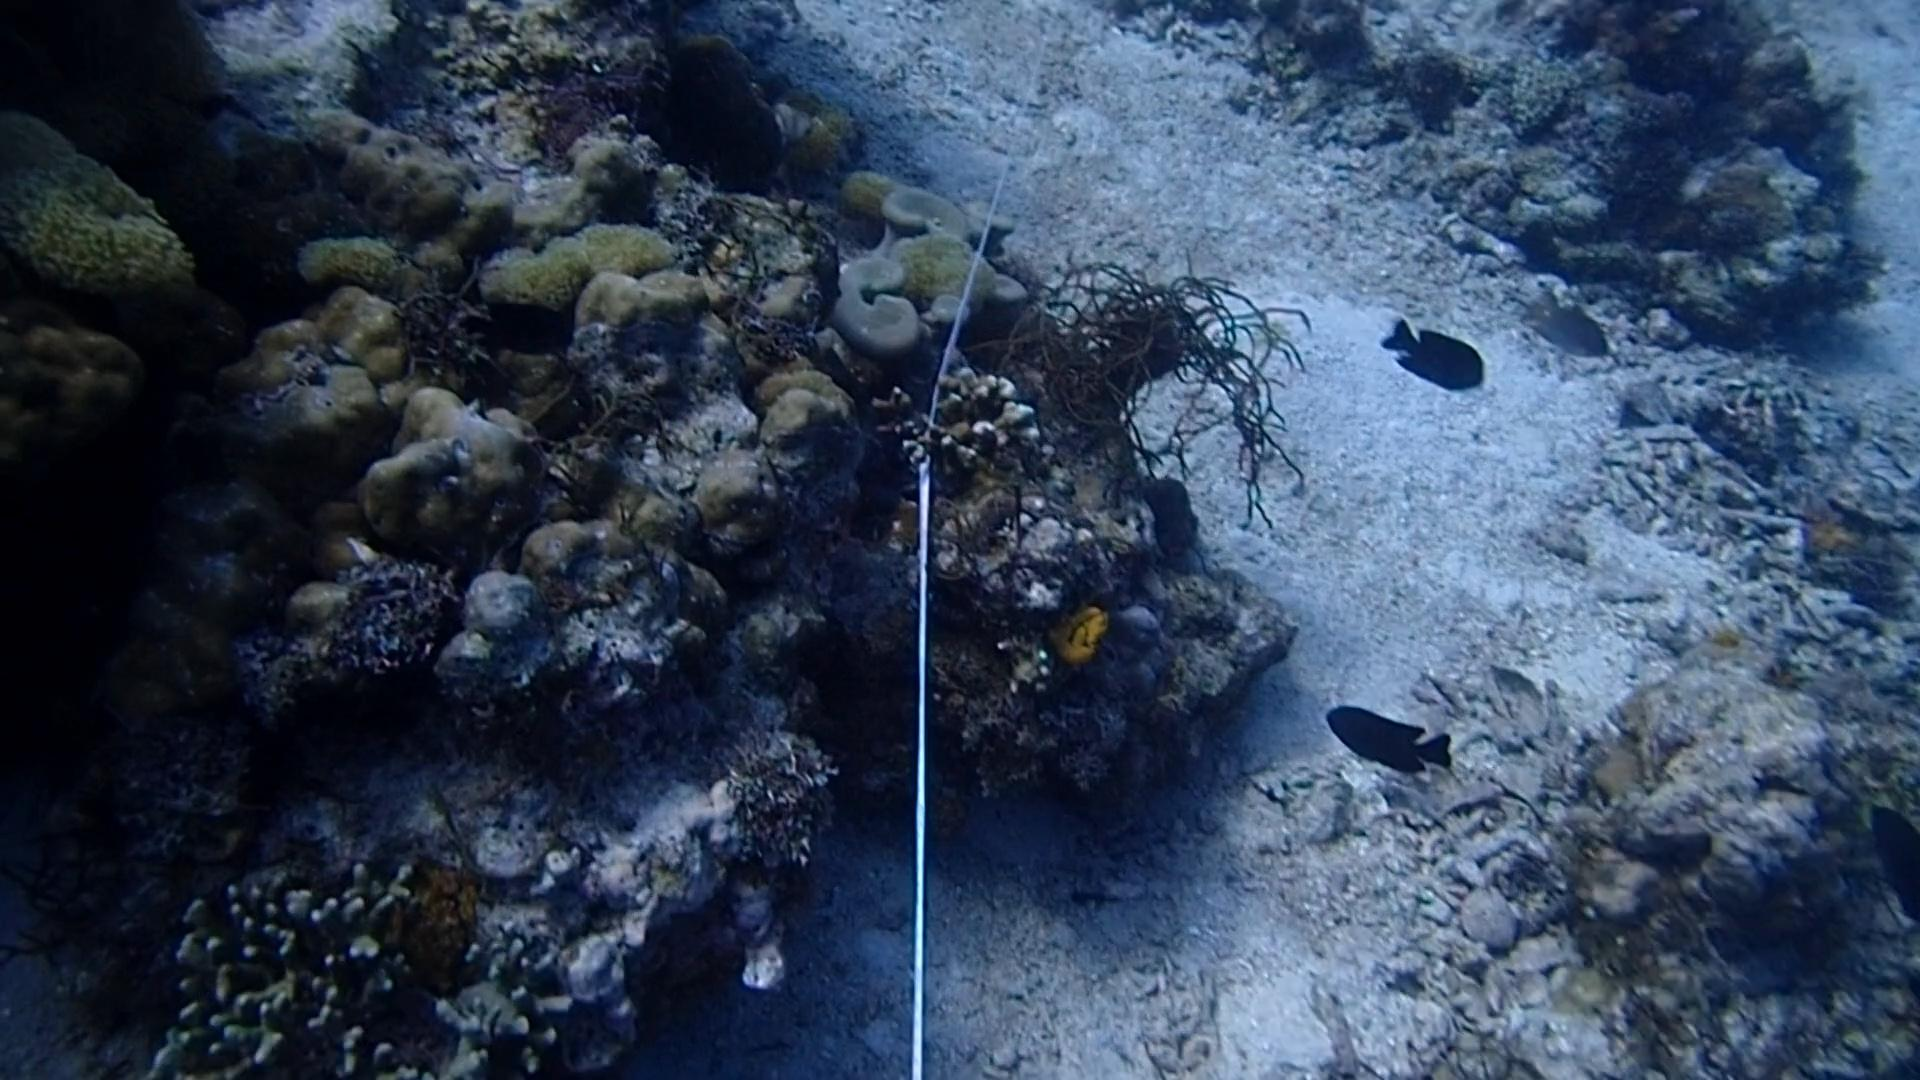Dark Fish: (1311, 696, 1457, 795), (1370, 310, 1484, 404)
Light Fish: (1524, 290, 1621, 369)
